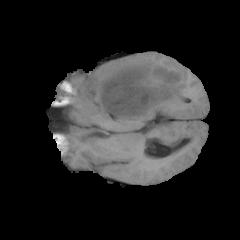glioma: (83, 56, 187, 120)
